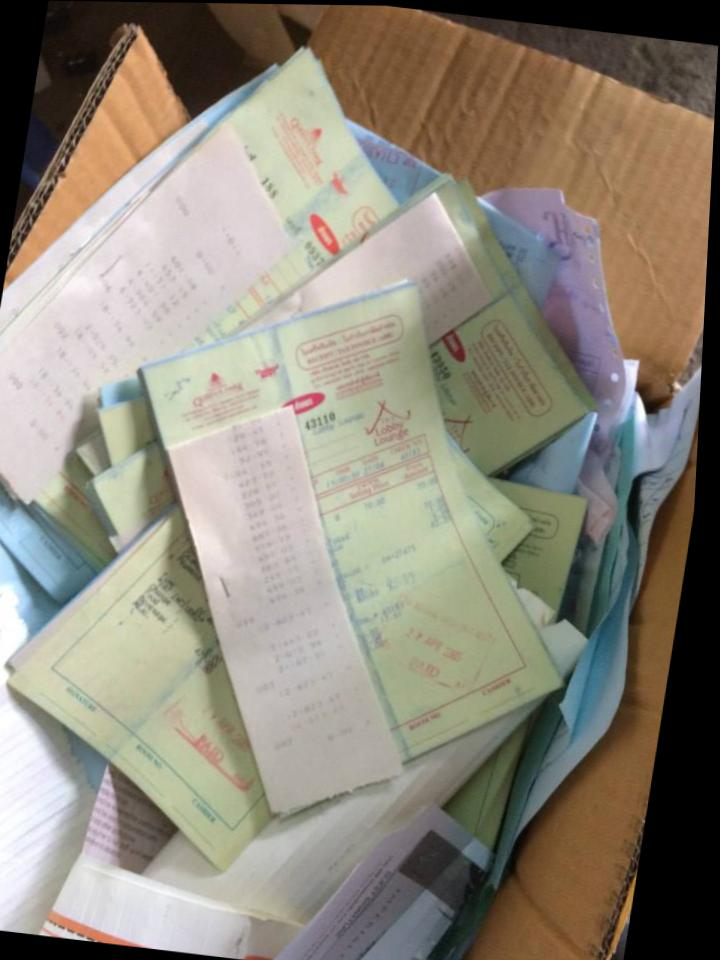paper: (8, 146, 712, 896), (0, 34, 441, 549), (0, 585, 493, 960)
